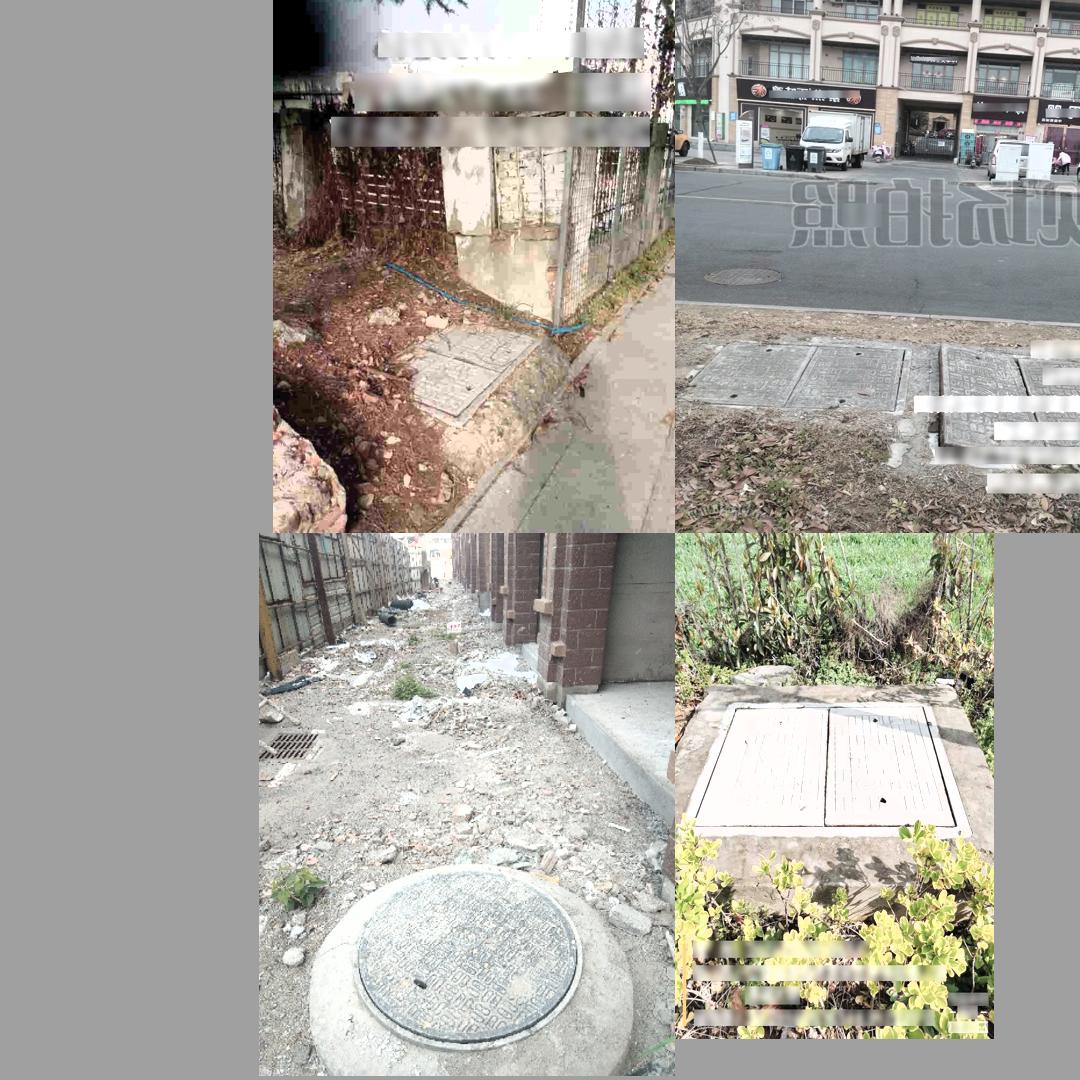good: (353, 871, 583, 1049), (680, 699, 972, 839), (676, 336, 911, 421), (380, 319, 539, 427)
uncovered: (931, 345, 1080, 479)
